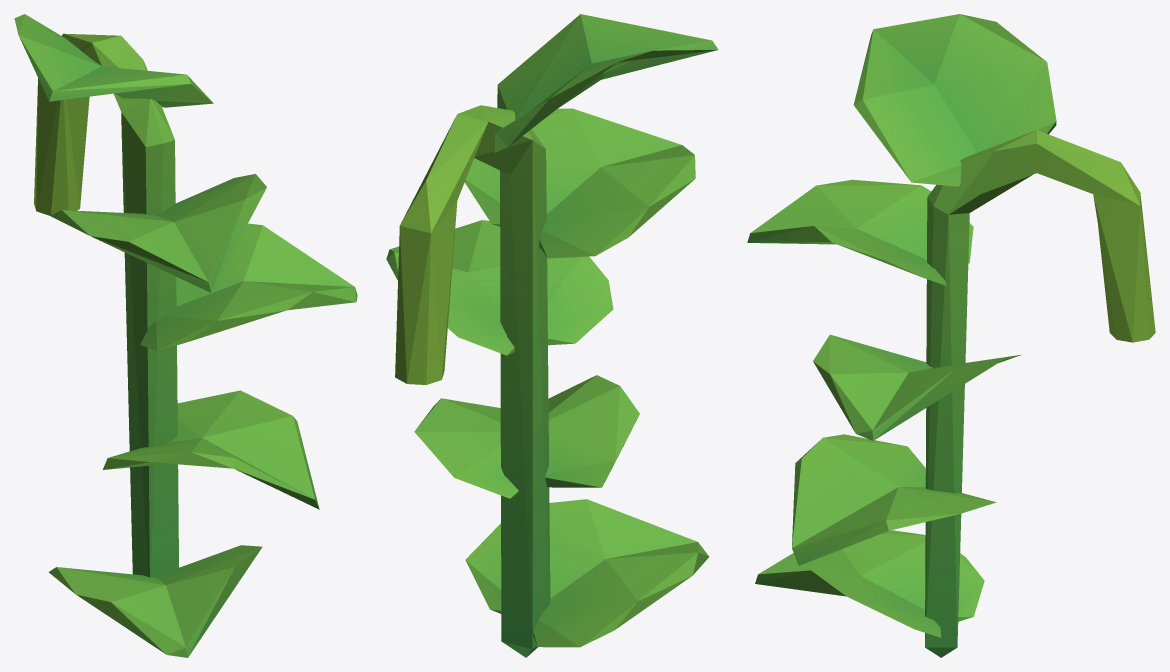
Rendered from plant_vine_2.glb.
3 views of the same model, side by side, from view 1: azimuth 30°, elevation 25°; view 2: azimuth 150°, elevation 25°; view 3: azimuth 270°, elevation 25° (orthographic). The views are drawn at different scales.
Parts seen in each view (by area): view 1: plant_vine_2; view 2: plant_vine_2; view 3: plant_vine_2.
Part boxes in pixels (left/top/right/bottom): plant_vine_2: left=14, top=14, right=357, bottom=657; plant_vine_2: left=386, top=14, right=718, bottom=657; plant_vine_2: left=747, top=14, right=1155, bottom=657.
Size of the model in its own units: 0.7965 by 1.49 by 0.945.
Materials: 1 (1 with a texture image).
